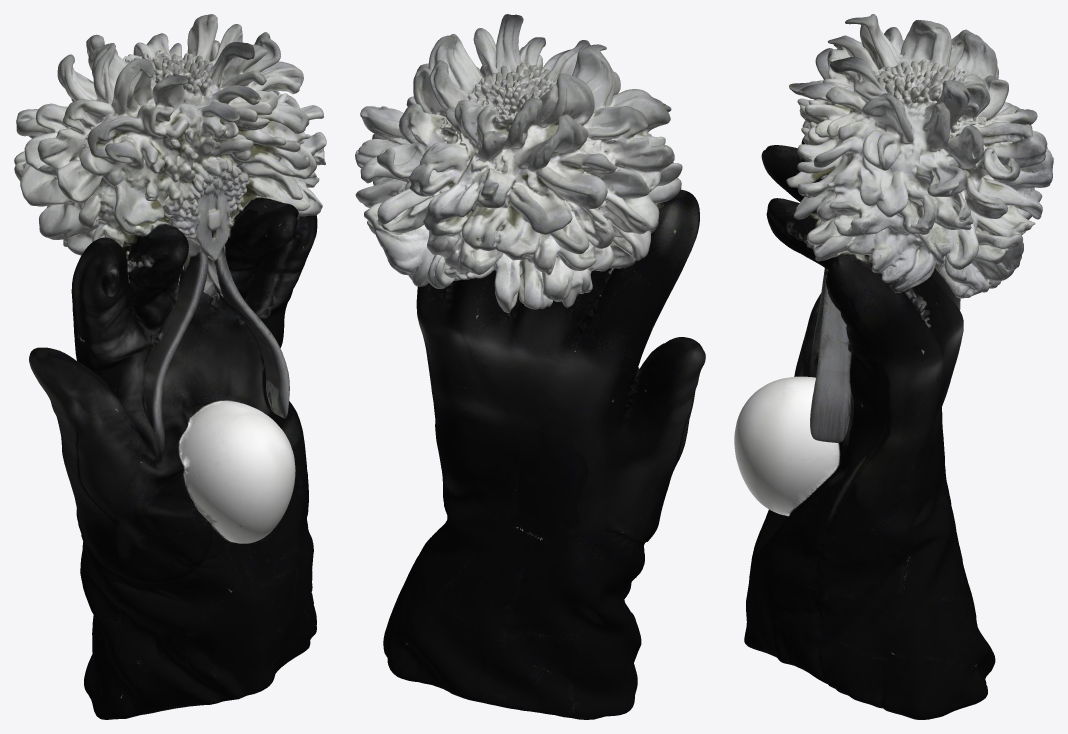
The model's file is track5-relic-textured-clean.glb.
The picture shows the model from 3 angles, left to right: view 1: azimuth 30°, elevation 25°; view 2: azimuth 150°, elevation 25°; view 3: azimuth 270°, elevation 25°; orthographic projection.
Bounding box in the file's own units: 0.9185 × 1.9 × 0.8432.
Materials: 1 (1 with a texture image).
